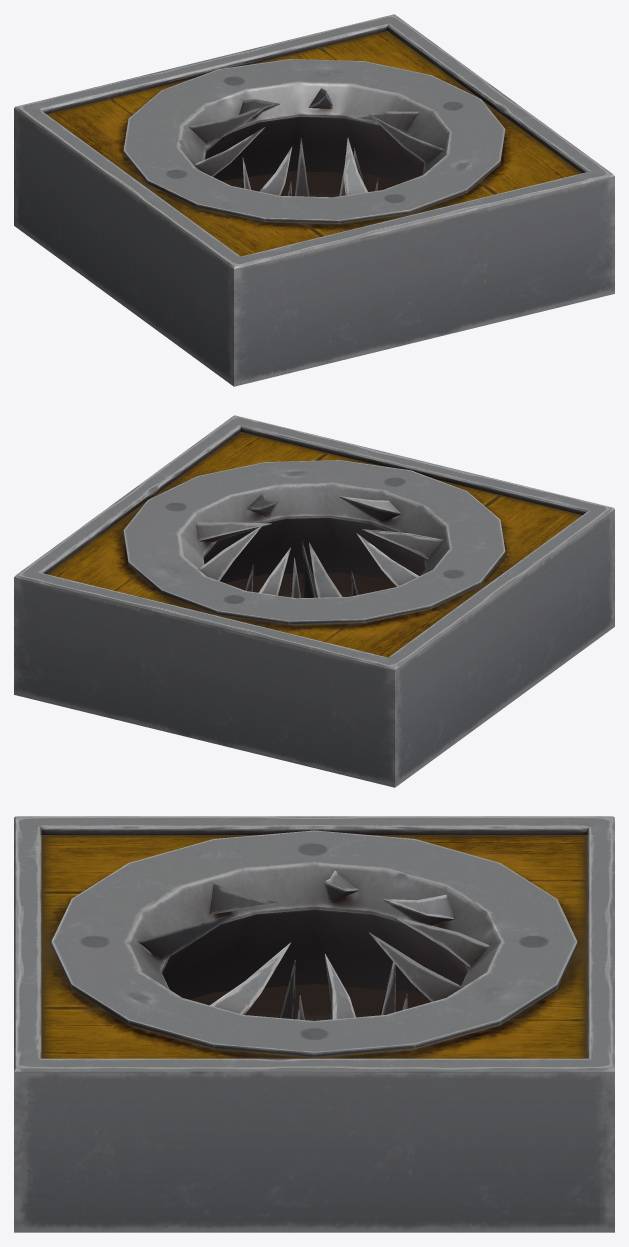
Rendered from Trap3.fbx.
The picture shows the model from 3 angles, top to bottom: view 1: azimuth 30°, elevation 25°; view 2: azimuth 150°, elevation 25°; view 3: azimuth 270°, elevation 25°; orthographic projection. The views are drawn at different scales.
Parts seen in each view (by area): view 1: Trap3; view 2: Trap3; view 3: Trap3.
Part boxes in pixels (x1,y1,x2,y2): Trap3: (14, 14, 614, 386); Trap3: (14, 415, 614, 787); Trap3: (14, 816, 614, 1232).
Size of the model in its own units: 184 by 65.67 by 184.
